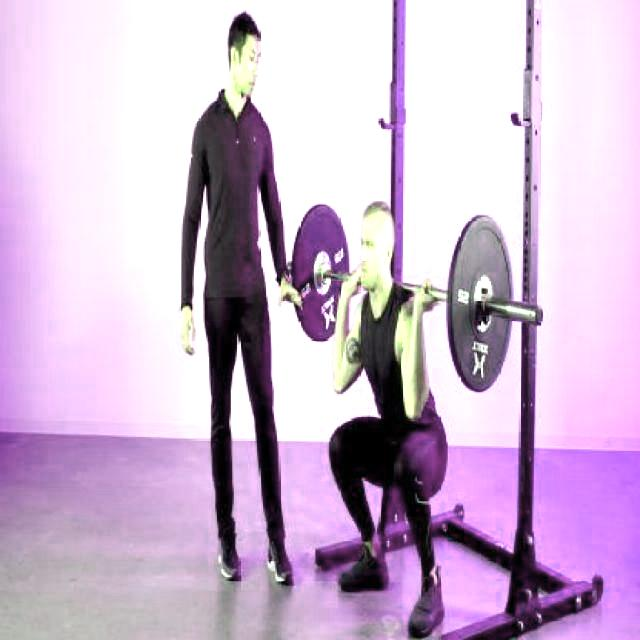barbell: (447, 212, 549, 395)
